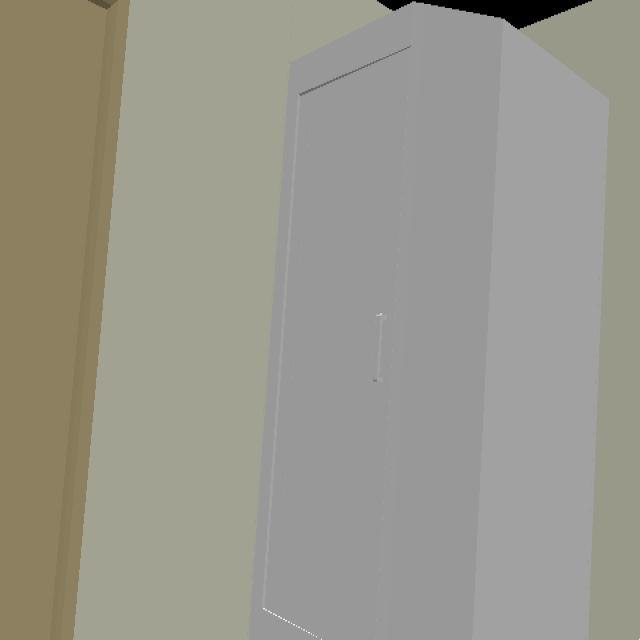shower: (248, 4, 611, 640)
